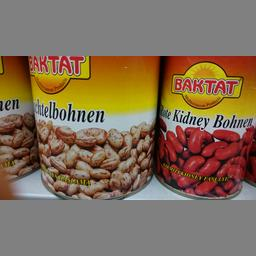beans: (28, 54, 158, 198), (161, 55, 254, 200)
